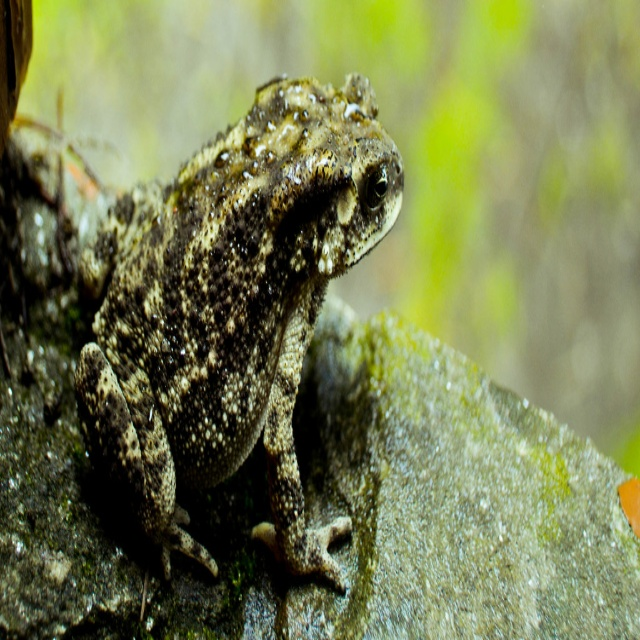Frog: (78, 67, 405, 593)
